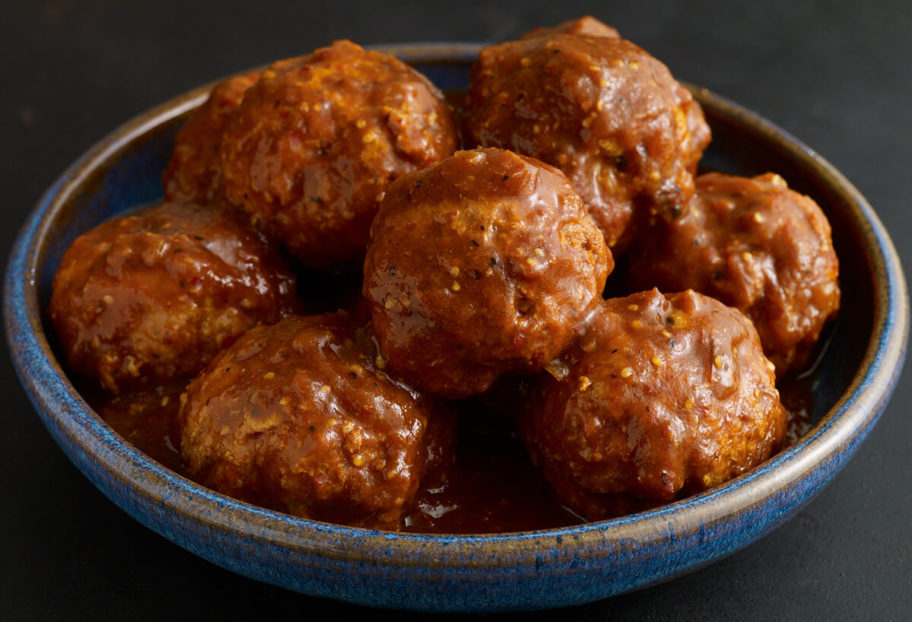meatballs: (522, 302, 776, 508), (373, 164, 601, 374), (179, 319, 462, 473), (225, 81, 458, 265)
